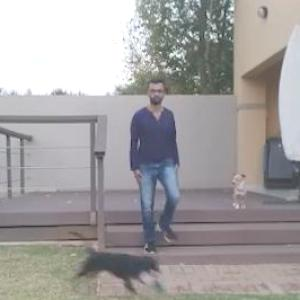follow: (129, 77, 178, 282)
